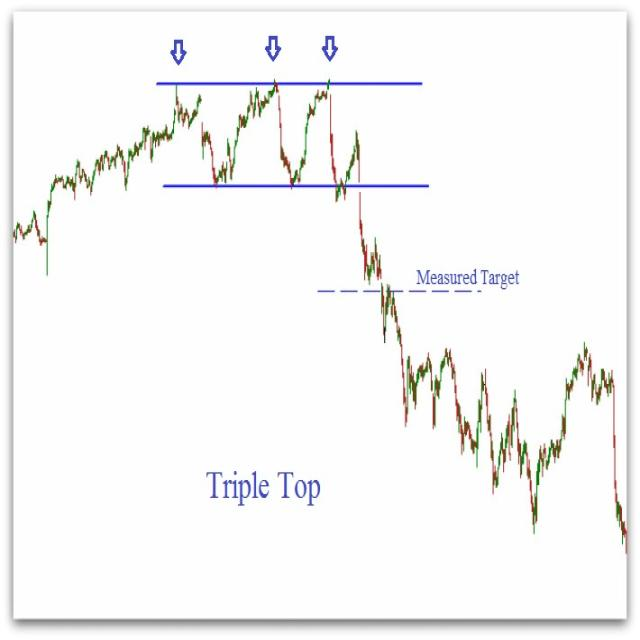Triple-Top: (158, 88, 375, 181)
